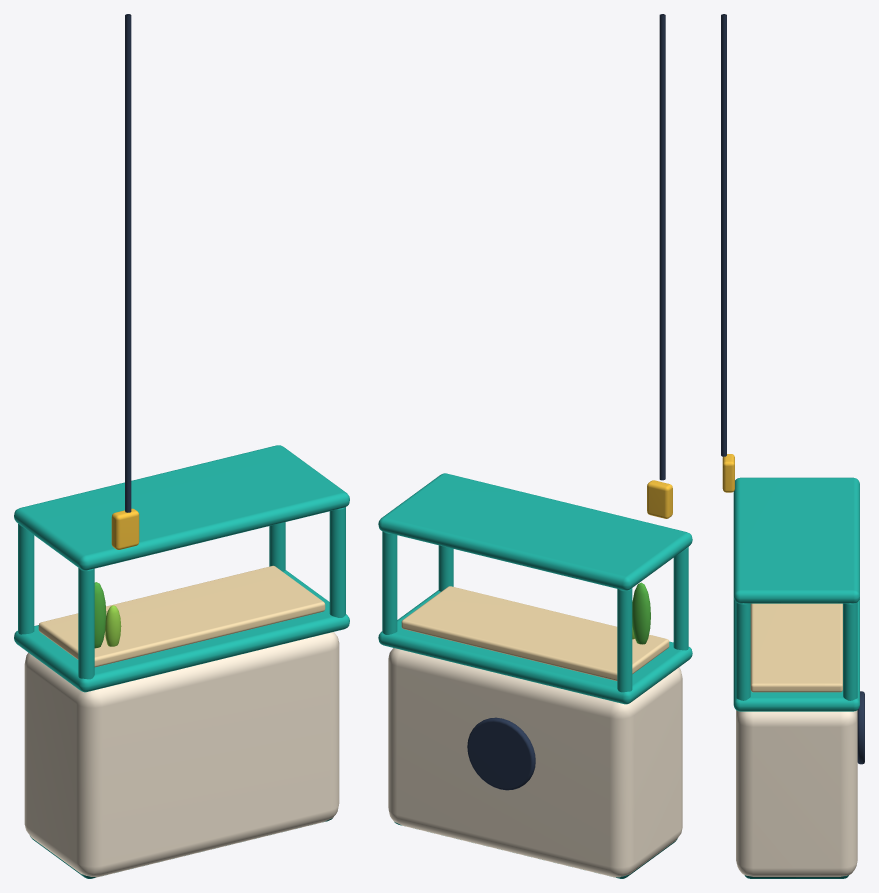
Rendered from ResearchTank.fbx.
3 views of the same model, side by side, from view 1: azimuth 30°, elevation 25°; view 2: azimuth 150°, elevation 25°; view 3: azimuth 270°, elevation 25° (orthographic). The views are drawn at different scales.
Visible parts, largest first — view 1: ResearchTank mesh; view 2: ResearchTank mesh; view 3: ResearchTank mesh.
Boxes of the visible parts, x1,y1,x2,y2 form: ResearchTank mesh: (14, 14, 349, 878); ResearchTank mesh: (378, 14, 692, 878); ResearchTank mesh: (721, 14, 864, 878).
Size of the model in its own units: 1.14 by 3.5 by 0.592.
